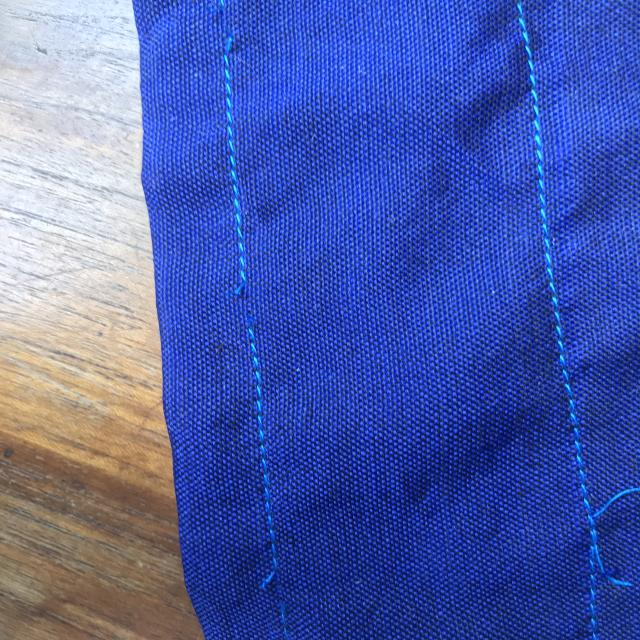broken: (212, 258, 275, 347)
good: (519, 151, 582, 350)
